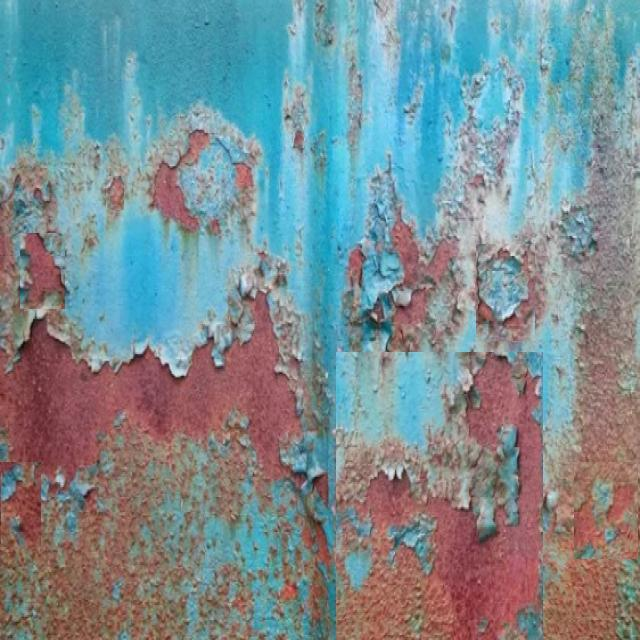Corrosion: (0, 0, 640, 640), (0, 297, 331, 640), (337, 355, 544, 640), (547, 52, 640, 640), (340, 455, 544, 640), (211, 250, 303, 402), (151, 129, 254, 234), (151, 162, 199, 232), (24, 233, 64, 309), (392, 208, 421, 288), (426, 239, 459, 284), (394, 289, 428, 330), (348, 245, 365, 308)
